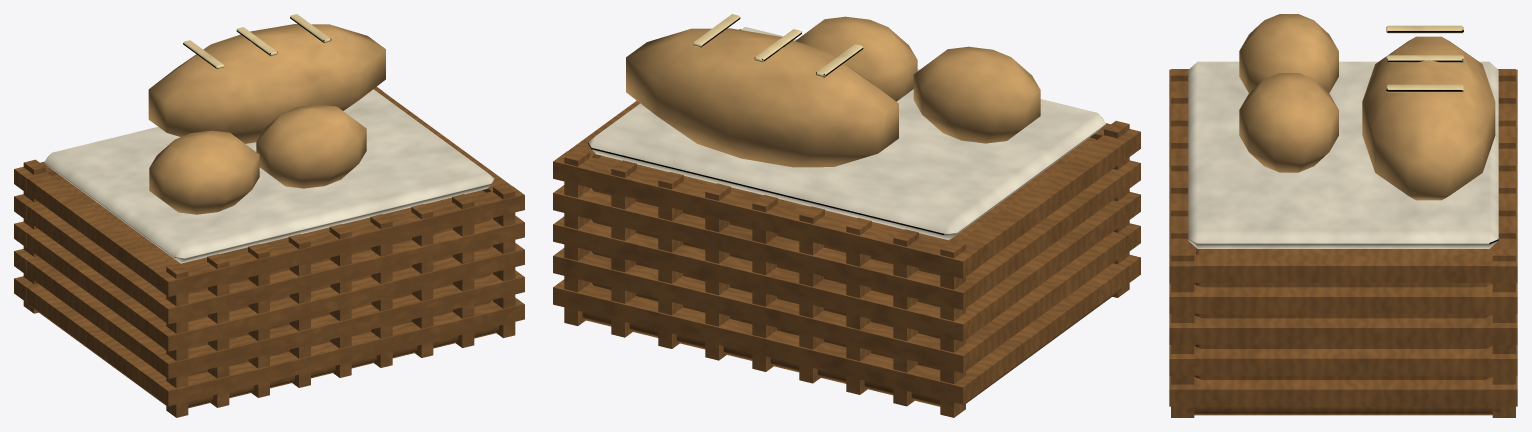
Rendered from Furn_BasketBread.fbx.
3 views of the same model, side by side, from view 1: azimuth 30°, elevation 25°; view 2: azimuth 150°, elevation 25°; view 3: azimuth 270°, elevation 25° (orthographic). The views are drawn at different scales.
Visible parts, largest first — view 1: Furn_BasketBread_Mesh; view 2: Furn_BasketBread_Mesh; view 3: Furn_BasketBread_Mesh.
Part boxes in pixels (x1,y1,x2,y2): Furn_BasketBread_Mesh: (14,14,524,417); Furn_BasketBread_Mesh: (553,14,1140,417); Furn_BasketBread_Mesh: (1169,14,1517,417).
Size of the model in its own units: 0.6 by 0.4 by 0.45.
